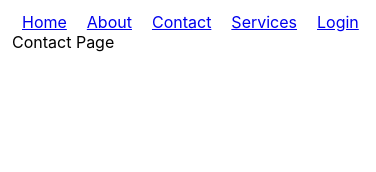
Test: Testing routing Application › App component should › services link
The image size is (376, 172).
Click the link "Services": click(264, 22) [231,12,297,32]
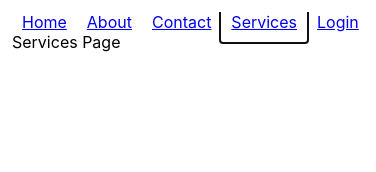
Expected: the text "Services Page" is shown, [12,32,120,52]
